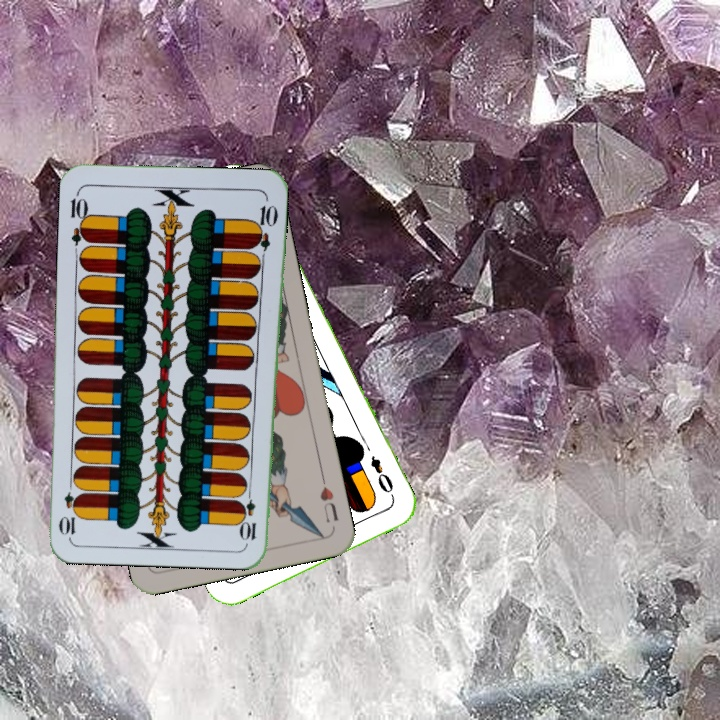E10: (66, 188, 92, 247), (240, 484, 259, 543)
EO: (366, 451, 397, 501)
HU: (316, 471, 341, 526)
